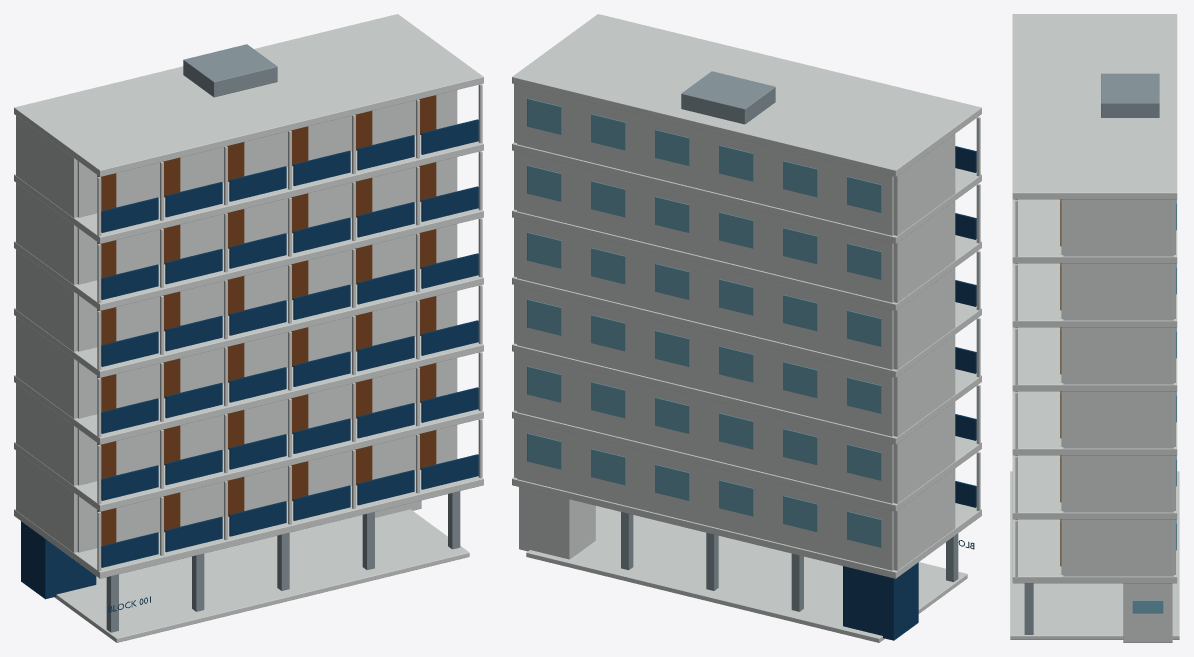
Rendered from edited.glb.
The picture shows the model from 3 angles, left to right: view 1: azimuth 30°, elevation 25°; view 2: azimuth 150°, elevation 25°; view 3: azimuth 270°, elevation 25°; orthographic projection. The views are drawn at different scales.
Visible parts, largest first — view 1: SLAB_Storey.006, STOREY_FacadeAndCorridor.005, STOREY_FacadeAndCorridor.001, STOREY_FacadeAndCorridor.002, STOREY_FacadeAndCorridor.003, STOREY_FacadeAndCorridor.004, STOREY_FacadeAndCorridor, GROUND, SLAB_Storey.003, SLAB_Storey.004, SLAB_Storey.005, SLAB_Storey (+9 smaller); view 2: SLAB_Storey.006, STOREY_FacadeAndCorridor.002, STOREY_FacadeAndCorridor.003, STOREY_FacadeAndCorridor.001, STOREY_FacadeAndCorridor.004, STOREY_FacadeAndCorridor, STOREY_FacadeAndCorridor.005, GROUND, LIFT_Core, STAIR_Core, SLAB_Storey.002, SLAB_Storey.003 (+8 smaller); view 3: SLAB_Storey.006, GROUND, STOREY_FacadeAndCorridor.001, STOREY_FacadeAndCorridor.002, STOREY_FacadeAndCorridor.003, STOREY_FacadeAndCorridor.004, STOREY_FacadeAndCorridor, STOREY_FacadeAndCorridor.005, SLAB_Storey, SLAB_Storey.001, SLAB_Storey.002, SLAB_Storey.003 (+6 smaller).
Boxes of the visible parts, x1,y1,x2,y2 form: SLAB_Storey.006: (14, 14, 483, 176); STOREY_FacadeAndCorridor.005: (16, 151, 482, 303); STOREY_FacadeAndCorridor.001: (16, 419, 482, 571); STOREY_FacadeAndCorridor.002: (16, 352, 482, 504); STOREY_FacadeAndCorridor.003: (16, 285, 482, 437); STOREY_FacadeAndCorridor.004: (16, 218, 482, 370); STOREY_FacadeAndCorridor: (16, 84, 482, 236); GROUND: (54, 509, 469, 642); SLAB_Storey.003: (14, 269, 483, 377); SLAB_Storey.004: (14, 202, 483, 310); SLAB_Storey.005: (14, 135, 483, 243); SLAB_Storey: (14, 470, 483, 578); SLAB_Storey.006: (512, 14, 981, 176); STOREY_FacadeAndCorridor.002: (514, 352, 980, 503); STOREY_FacadeAndCorridor.003: (514, 285, 980, 436); STOREY_FacadeAndCorridor.001: (514, 419, 980, 570); STOREY_FacadeAndCorridor.004: (514, 218, 980, 369); STOREY_FacadeAndCorridor: (514, 84, 980, 235); STOREY_FacadeAndCorridor.005: (514, 151, 980, 302); GROUND: (526, 506, 967, 642); LIFT_Core: (843, 562, 918, 640); STAIR_Core: (519, 487, 595, 559); SLAB_Storey.002: (512, 343, 981, 444); SLAB_Storey.003: (512, 276, 981, 377); SLAB_Storey.006: (1012, 14, 1177, 199); GROUND: (1010, 471, 1179, 639); STOREY_FacadeAndCorridor.001: (1015, 519, 1176, 576); STOREY_FacadeAndCorridor.002: (1015, 455, 1176, 512); STOREY_FacadeAndCorridor.003: (1015, 391, 1176, 448); STOREY_FacadeAndCorridor.004: (1015, 327, 1176, 384); STOREY_FacadeAndCorridor: (1015, 199, 1176, 256); STOREY_FacadeAndCorridor.005: (1015, 263, 1176, 320); SLAB_Storey: (1012, 519, 1177, 583); SLAB_Storey.001: (1012, 455, 1177, 519); SLAB_Storey.002: (1012, 391, 1177, 455); SLAB_Storey.003: (1012, 327, 1177, 391).
Size of the model in its own units: 18 by 22 by 7.2.
